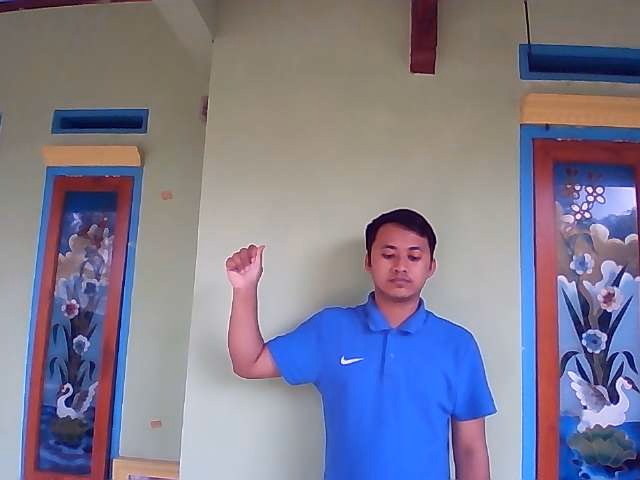A: (225, 242, 266, 286)
